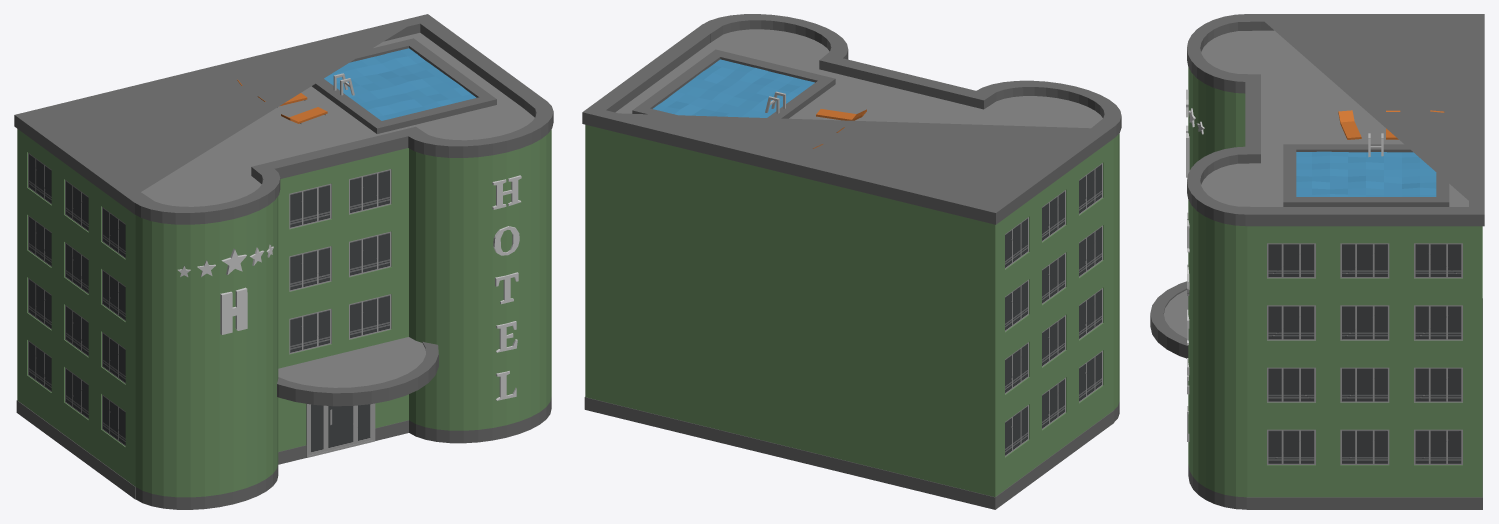
The model's file is spb-hotel.glb.
3 renders of one model, left to right at view 1: azimuth 30°, elevation 25°; view 2: azimuth 150°, elevation 25°; view 3: azimuth 270°, elevation 25°, orthographic.
Visible parts, largest first — view 1: SPB_Hotel; view 2: SPB_Hotel; view 3: SPB_Hotel.
Boxes of the visible parts, x1,y1,x2,y2 form: SPB_Hotel: (14,14,553,509); SPB_Hotel: (582,14,1121,509); SPB_Hotel: (1150,14,1484,509).
Bounding box in the file's own units: 24.21 × 17.27 × 17.05.
Materials: 1 (1 with a texture image).
